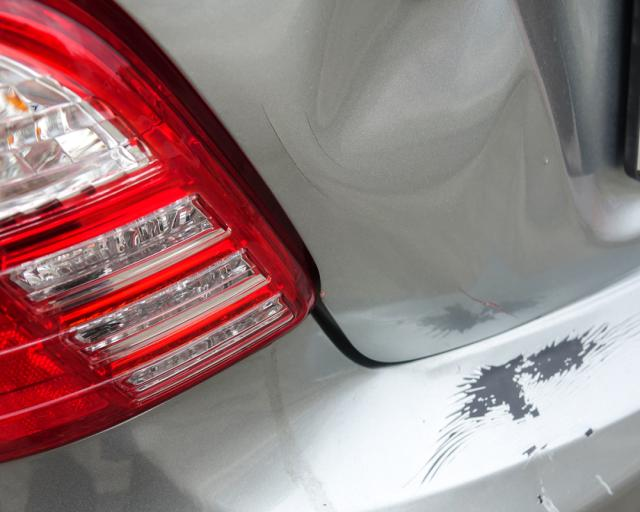dent: (415, 73, 579, 285), (310, 0, 524, 156)
scratch: (422, 312, 640, 512)
